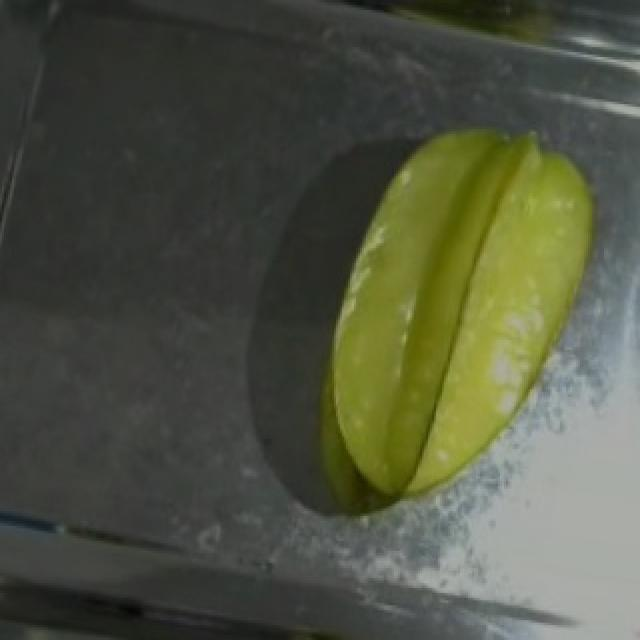fruit: (308, 97, 638, 481)
